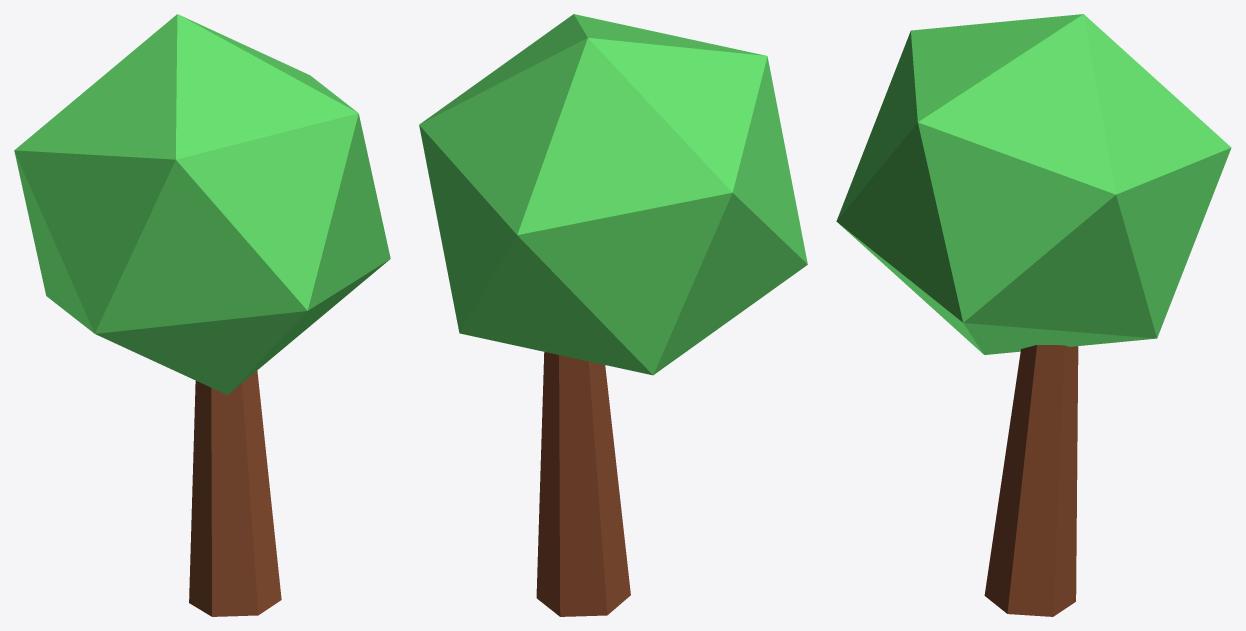
File: drzewo.gltf
The picture shows the model from 3 angles, left to right: view 1: azimuth 30°, elevation 25°; view 2: azimuth 150°, elevation 25°; view 3: azimuth 270°, elevation 25°; orthographic projection. The views are drawn at different scales.
Parts seen in each view (by area): view 1: Icosphere.003, Cylinder; view 2: Icosphere.003, Cylinder; view 3: Icosphere.003, Cylinder.
Part boxes in pixels (left/top/right/bottom): Icosphere.003: left=14, top=14, right=390, bottom=394; Cylinder: left=189, top=371, right=281, bottom=616; Icosphere.003: left=419, top=14, right=807, bottom=375; Cylinder: left=536, top=352, right=630, bottom=616; Icosphere.003: left=836, top=14, right=1231, bottom=354; Cylinder: left=984, top=345, right=1078, bottom=616.
Bounding box in the file's own units: 3 × 5.43 × 3.4.
